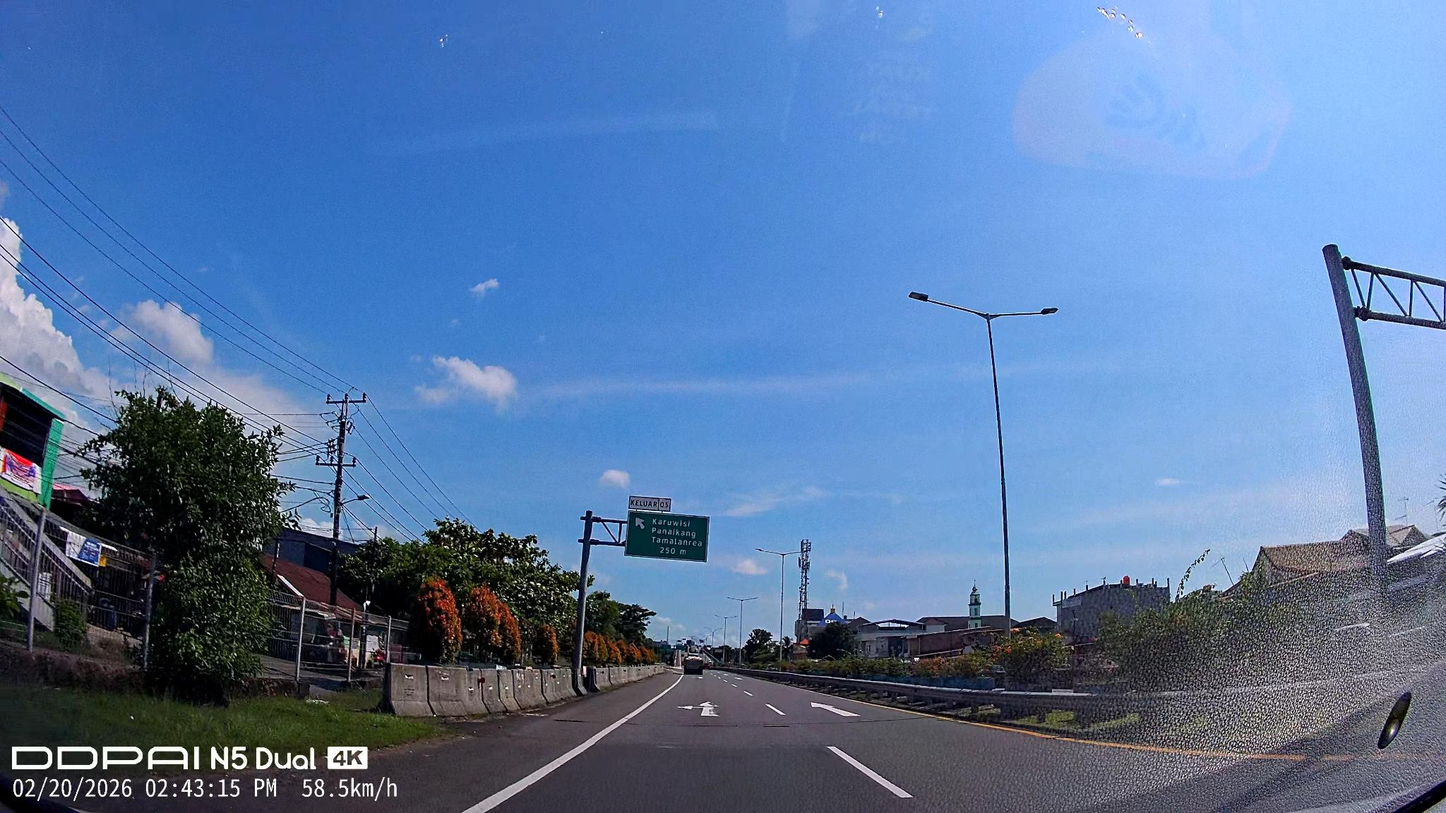rambu_teks: (626, 510, 710, 563)
